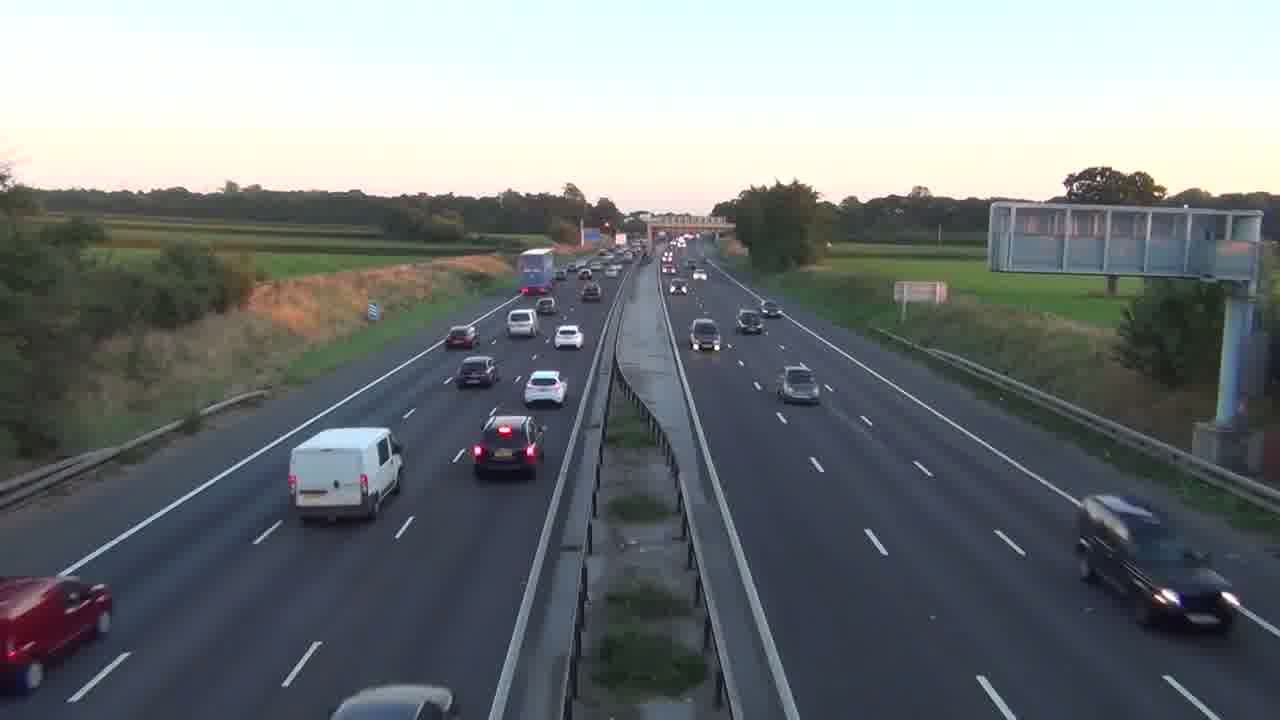car: (471, 411, 548, 480), (777, 362, 820, 405), (523, 369, 567, 408), (456, 354, 500, 389), (688, 318, 722, 352), (506, 308, 538, 339), (446, 324, 479, 351), (553, 323, 584, 350), (736, 308, 767, 335), (536, 297, 558, 314)
truck: (1073, 492, 1240, 633), (0, 575, 113, 695), (287, 425, 405, 524)
